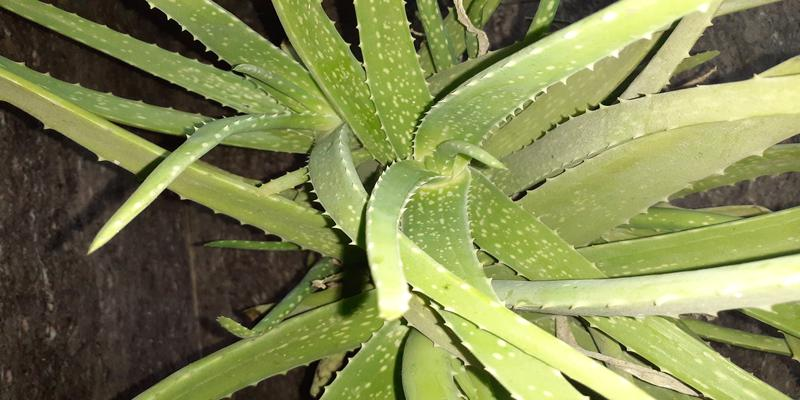Aloevera: (208, 36, 755, 376)
